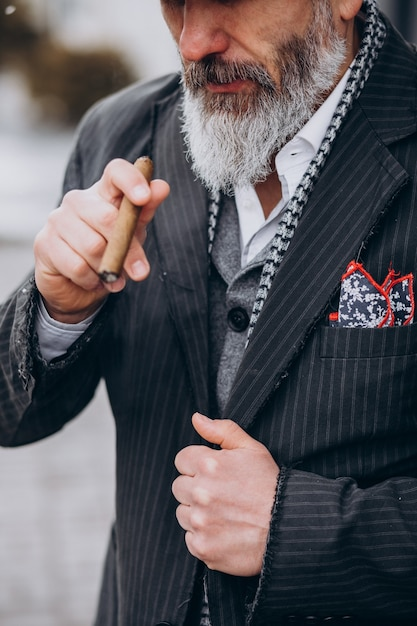cigarette: (98, 152, 149, 284)
